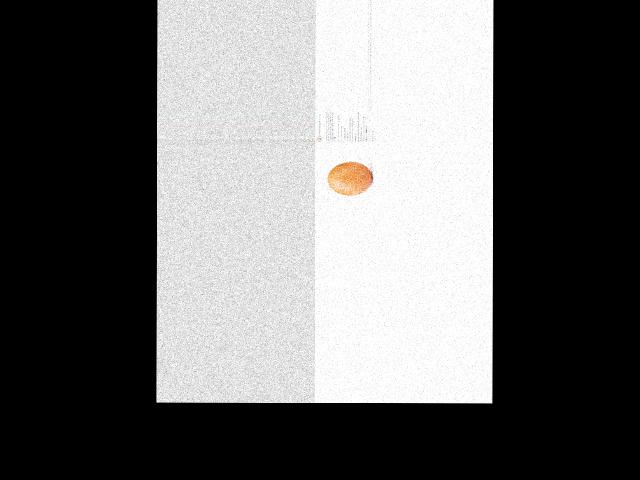egg: (327, 161, 372, 195)
